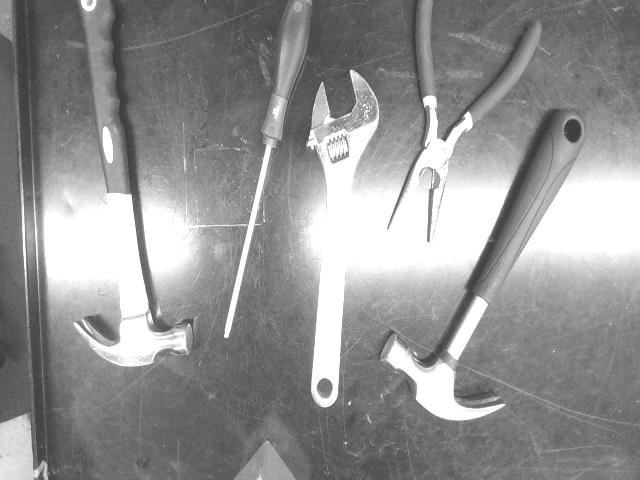Adjustable spanner: (306, 71, 379, 407)
Hammer: (381, 110, 585, 420), (75, 0, 192, 365)
Needle-nose pliers: (388, 0, 541, 243)
Screwdriver: (224, 1, 311, 338)
